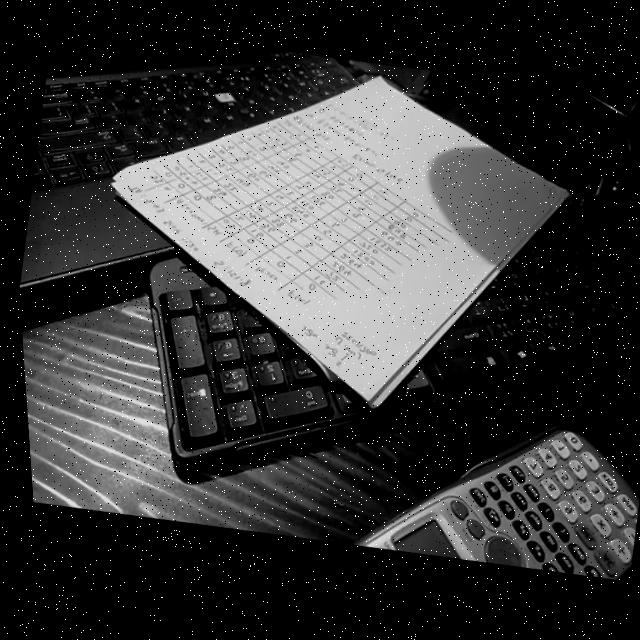document: (114, 78, 563, 401)
